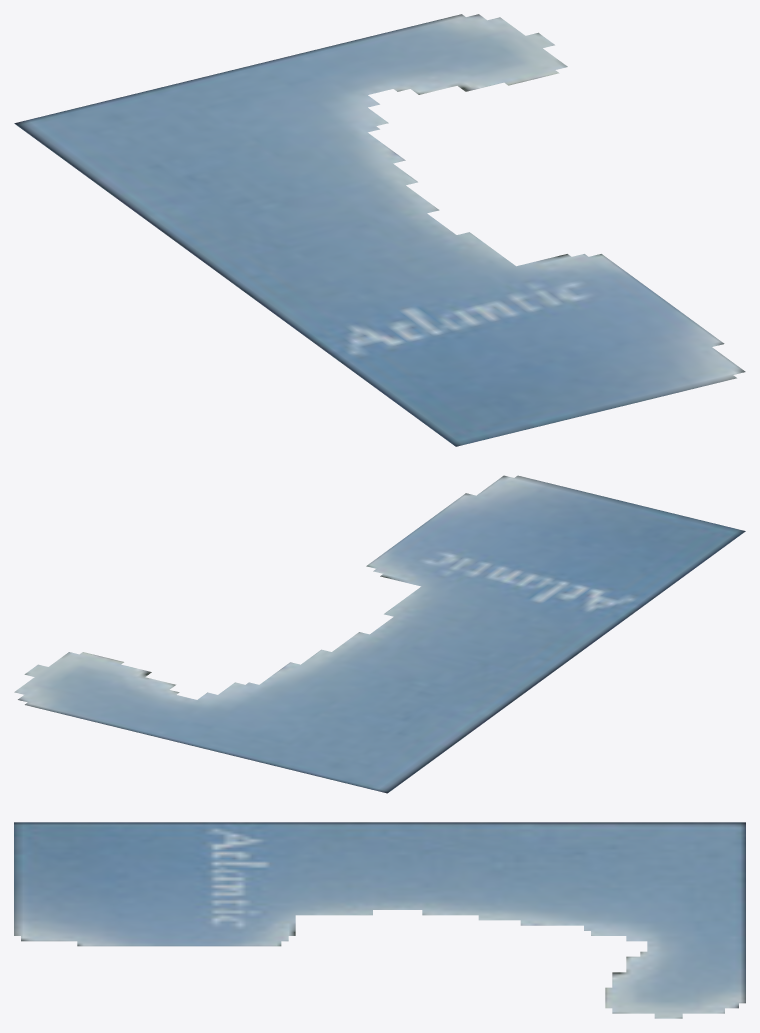
The model's file is spain-sea.gltf.
3 views of the same model, one above another, from view 1: azimuth 30°, elevation 25°; view 2: azimuth 150°, elevation 25°; view 3: azimuth 270°, elevation 25° (orthographic). The views are drawn at different scales.
Visible parts, largest first — view 1: Plane; view 2: Plane; view 3: Plane.
Part boxes in pixels (x1,y1,x2,y2): Plane: (14,14,745,446); Plane: (14,475,745,793); Plane: (14,822,745,1018).
Size of the model in its own units: 0.3752 by 0 by 0.5906.
1 material, 1 textured.
